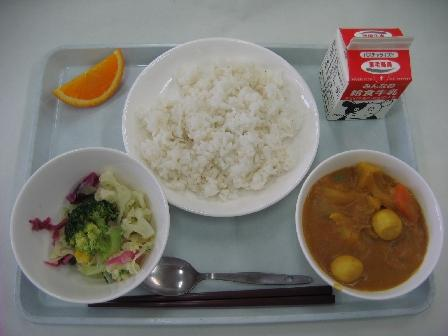Citrus: (52, 42, 128, 114)
Curry: (299, 161, 442, 299)
Milk: (323, 29, 414, 123)
Rice: (132, 48, 298, 196)
Salad: (20, 159, 157, 285)
